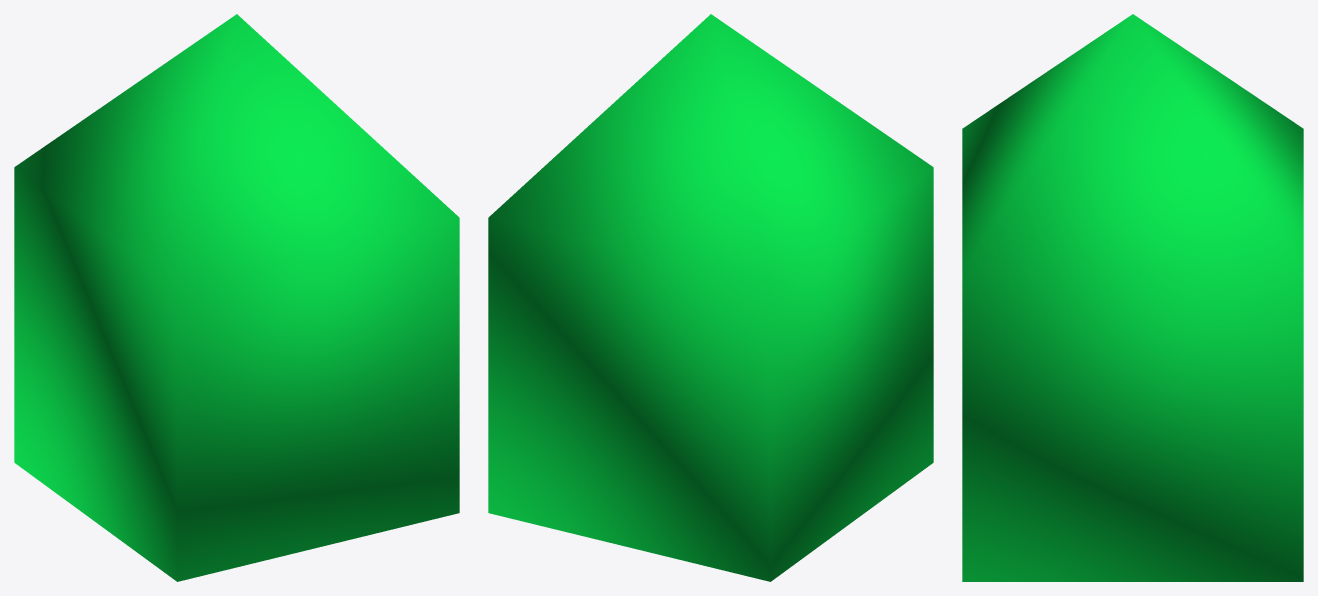
3 views of the same model, side by side, from view 1: azimuth 30°, elevation 25°; view 2: azimuth 150°, elevation 25°; view 3: azimuth 270°, elevation 25° (orthographic). The views are drawn at different scales.
Parts seen in each view (by area): view 1: Cube; view 2: Cube; view 3: Cube.
Part boxes in pixels (<box>): Cube: <box>14,14,459,581</box>; Cube: <box>488,14,933,581</box>; Cube: <box>962,14,1303,581</box>.
Bounding box in the file's own units: 2 × 3.21 × 2.
